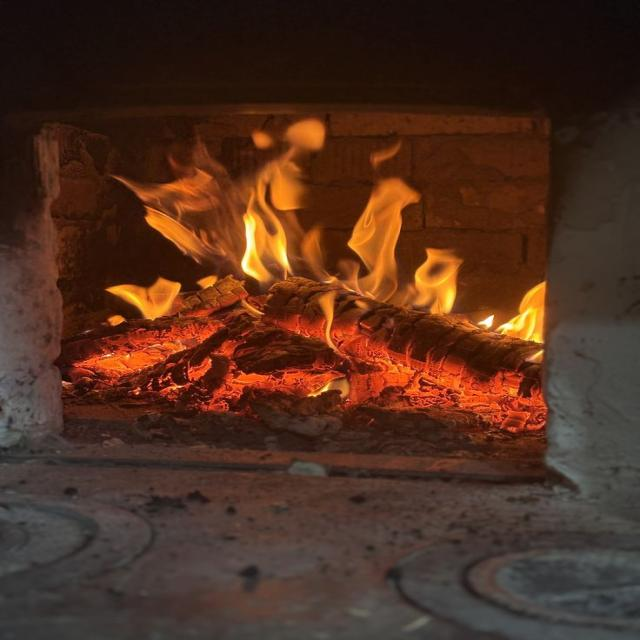fire: (106, 116, 548, 361), (72, 308, 543, 431), (102, 276, 178, 323)
